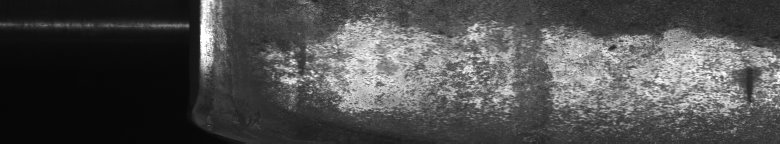kb: (199, 0, 776, 144)
